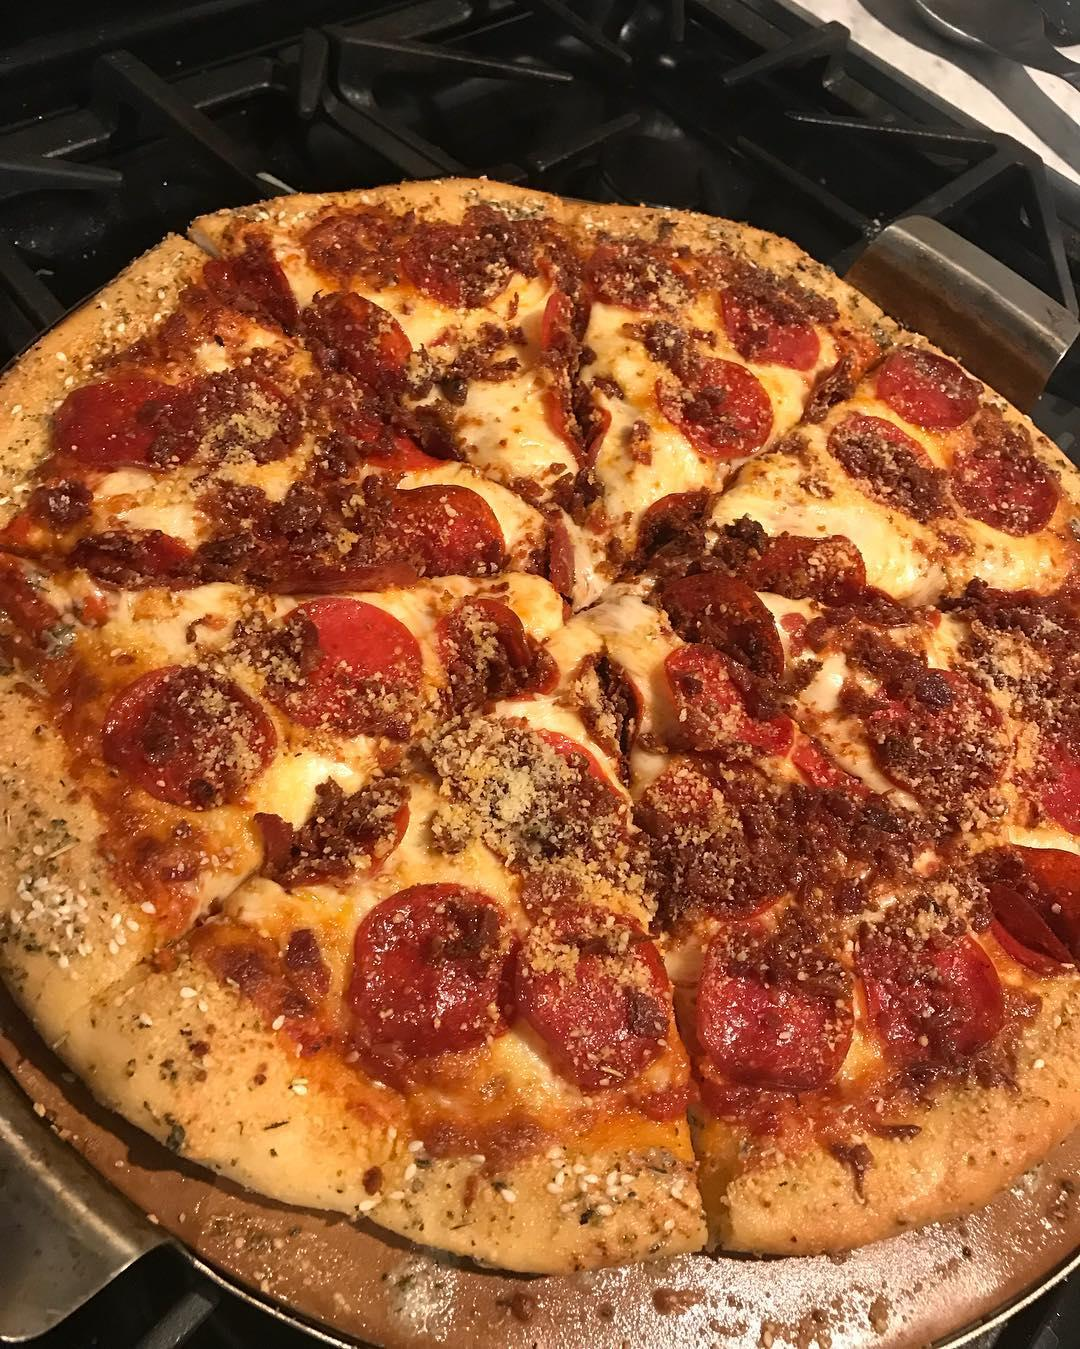Pepperoni: (508, 902, 671, 1097), (352, 874, 516, 1048), (688, 931, 847, 1079), (284, 584, 421, 740), (851, 925, 992, 1068), (105, 678, 257, 797), (461, 717, 603, 844), (964, 842, 1080, 975), (47, 355, 183, 468), (655, 645, 778, 746), (671, 358, 774, 460), (661, 551, 767, 644), (385, 485, 500, 569), (961, 441, 1049, 544), (867, 341, 969, 418), (734, 284, 816, 368), (538, 284, 583, 429), (342, 408, 439, 471), (304, 294, 397, 359)
Pizza: (1, 184, 1080, 1262)
